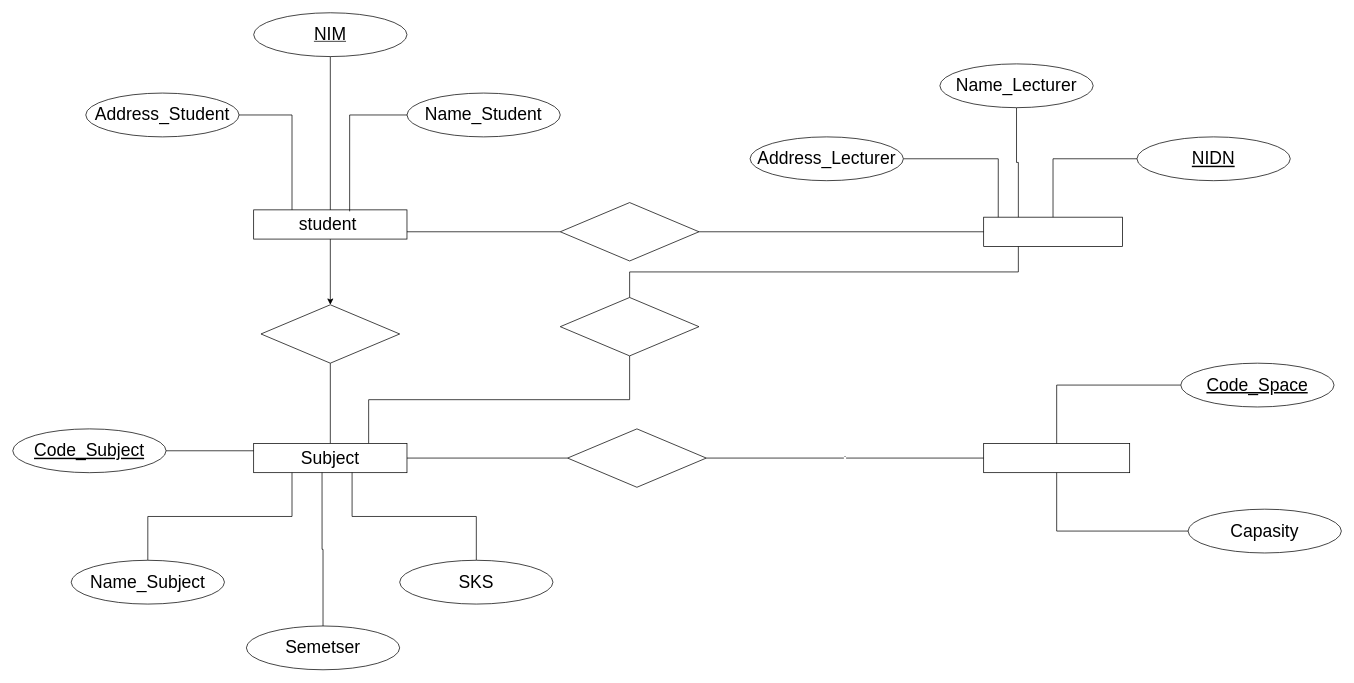
The diagram is 1354 pixels wide and 683 high, and some of its shapes have lost their labels. The shapes that lost their labels are listed below. From the top down, each one's centre as x and y in pixels, then its label:
(629,231): guided
(1052,231): Lecturer
(330,333): Take
(629,326): Guide
(636,457): Used
(1056,458): Classroom
